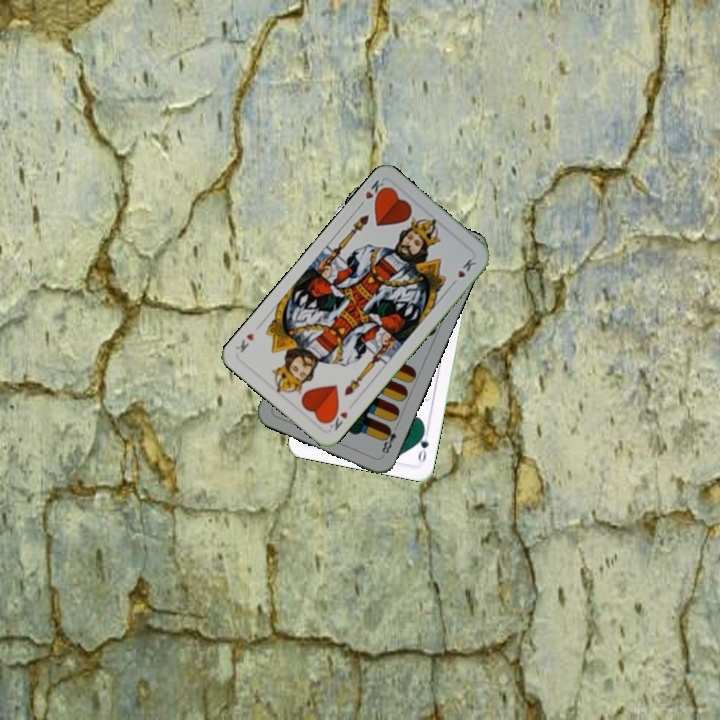E8: (378, 420, 401, 458)
GO: (414, 425, 432, 465)
HK: (355, 176, 390, 210), (323, 405, 350, 433)
